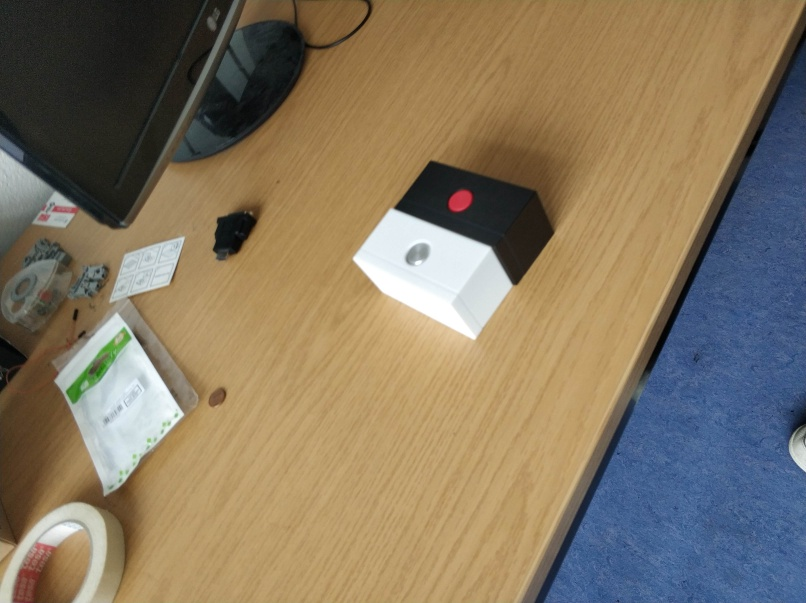black+black+red: (392, 159, 560, 287)
white+white+silver: (344, 206, 514, 343)
